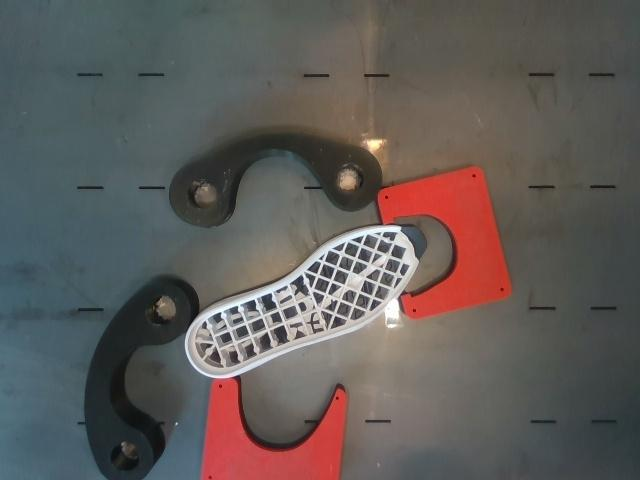shoes: (187, 227, 424, 376)
